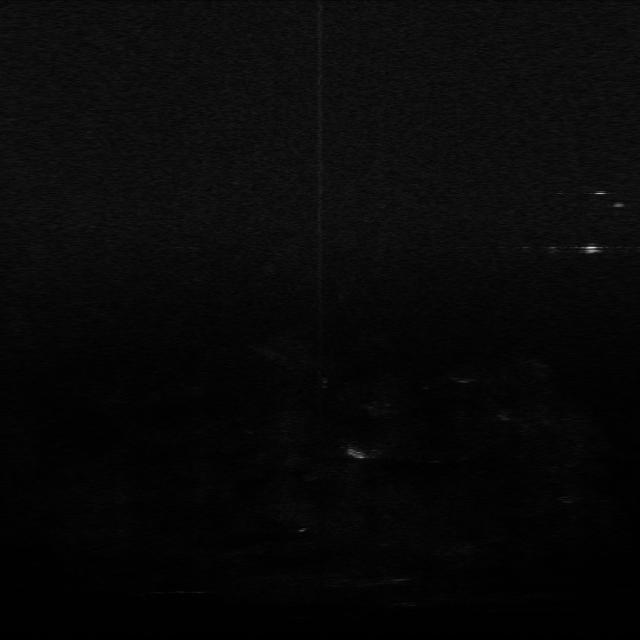rov: (577, 240, 602, 258)
